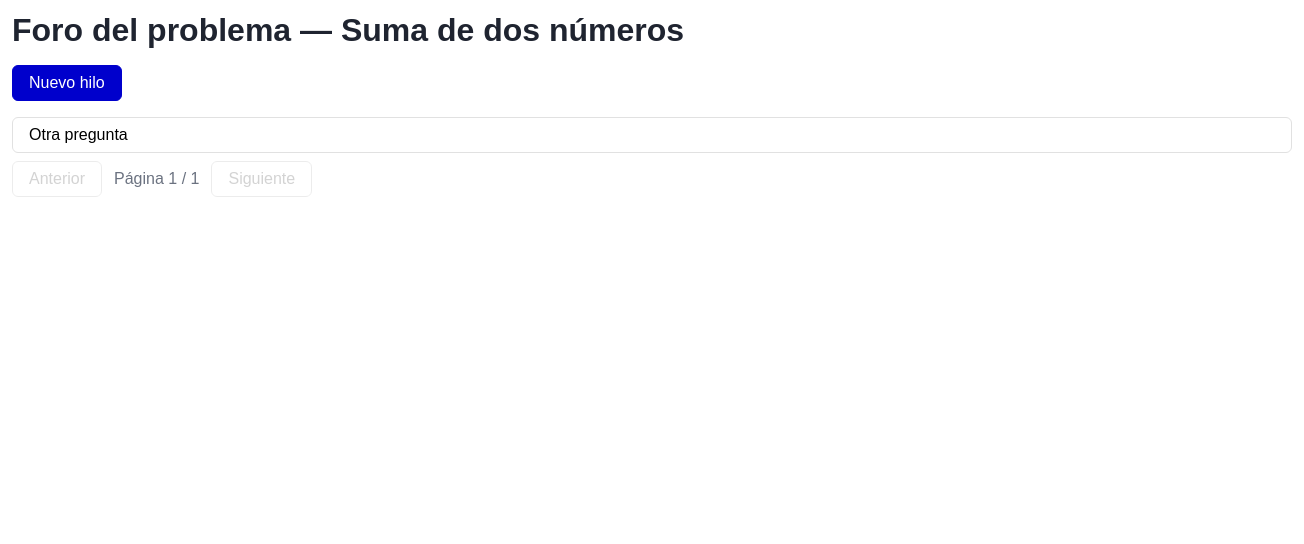
Scenario: Forum page — contest-phase lock › shows an inline error + toast when a student reply hits a live contest window
Expected: the element with test id "forum-page" is shown, left=12, top=12, right=1292, bottom=197
Click the button with test id "thread-2" at (78, 134), box left=12, top=117, right=1292, bottom=153
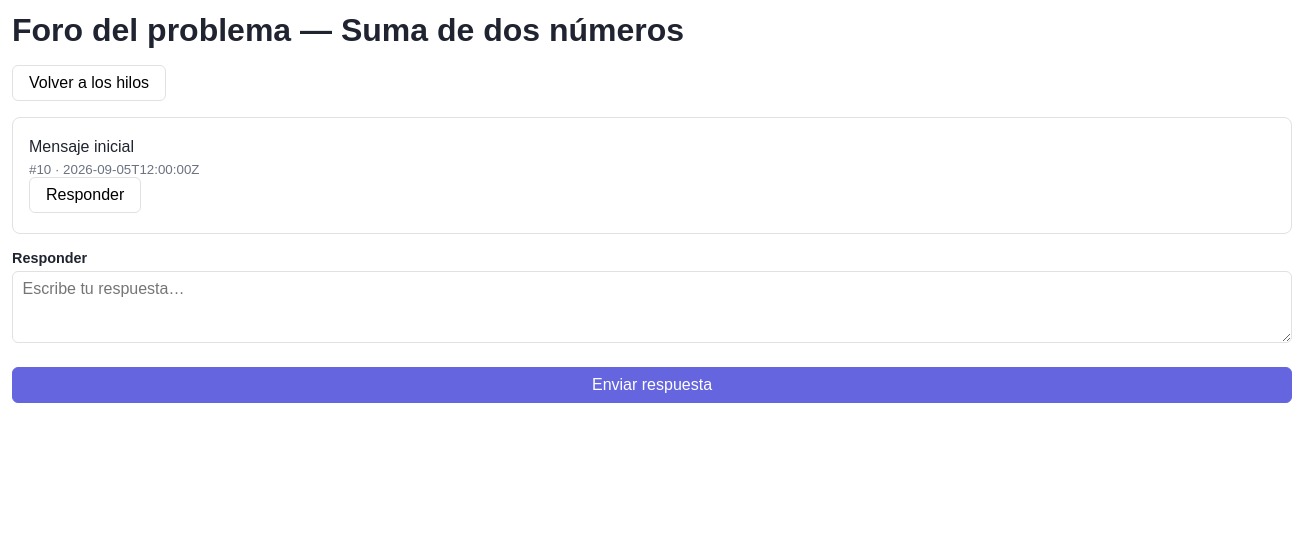
Expected: the element with test id "thread-detail" is shown
Type "Intento bloqueado" into the text box labelled "Responder" at (652, 307), box left=12, top=271, right=1292, bottom=343
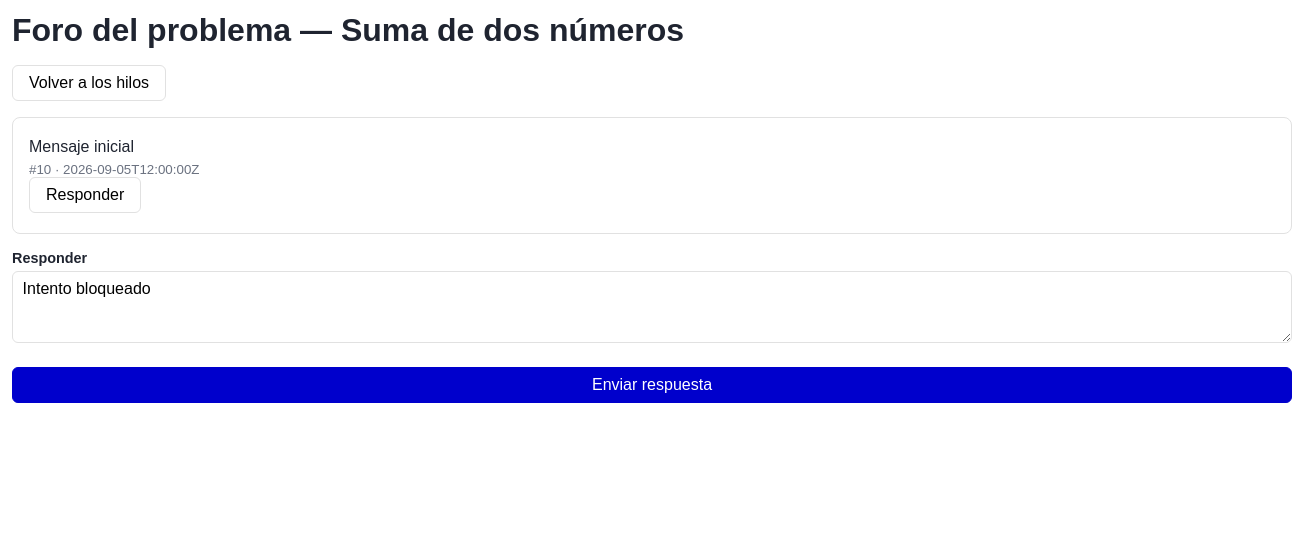
Click the button with test id "top-reply-submit" at (652, 385), box left=12, top=367, right=1292, bottom=403
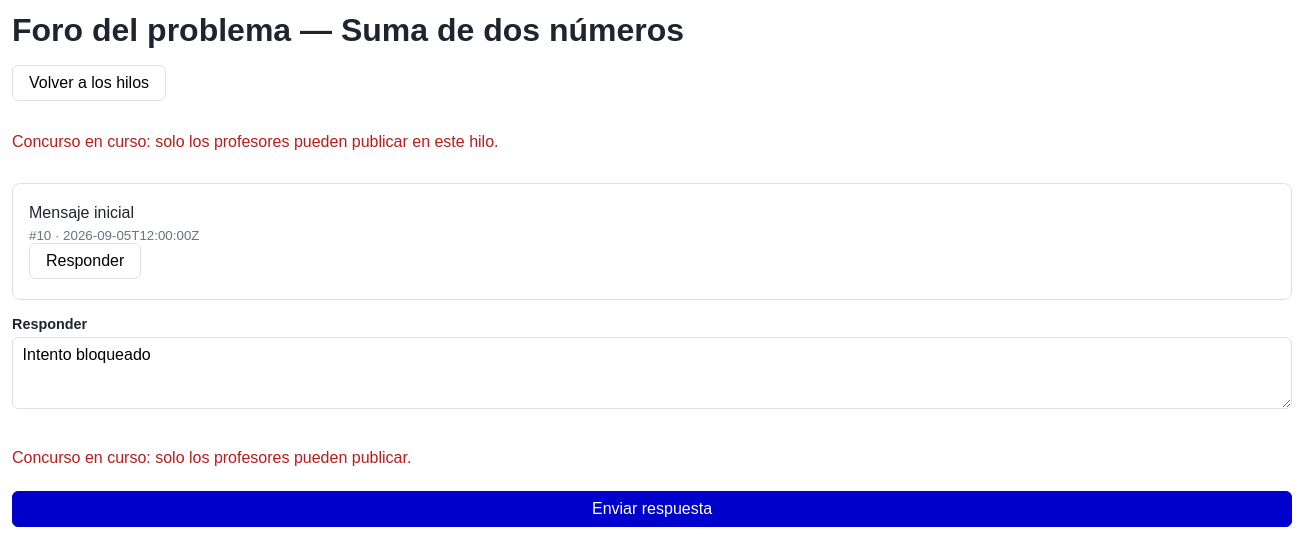
Expected: the text with test id "reply-error" shows "Concurso en curso", left=12, top=449, right=411, bottom=466
Expected: the message with test id "forum-toast" shows "Concurso en curso", left=12, top=133, right=498, bottom=150
